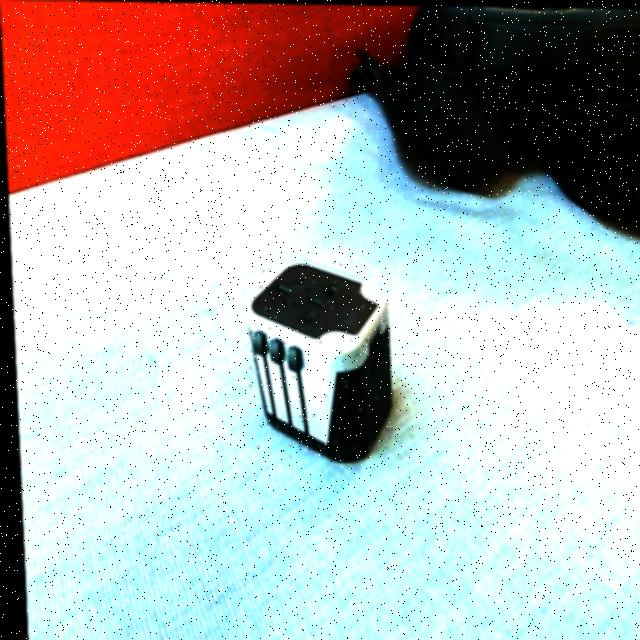adapter: (242, 259, 391, 462)
